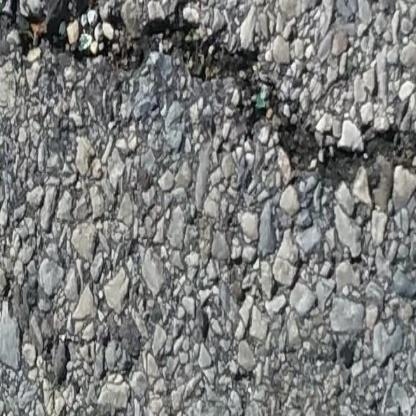Cracks: (0, 0, 416, 198)
